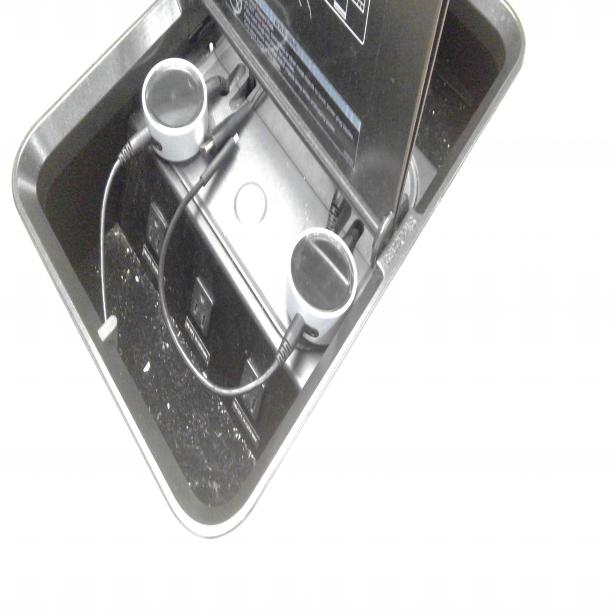typeb: (188, 282, 214, 337), (146, 211, 166, 251)
